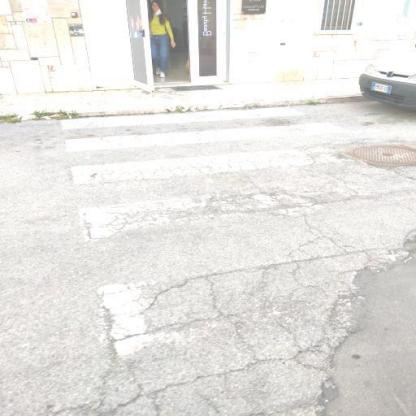crosswalk: (45, 105, 355, 157)
